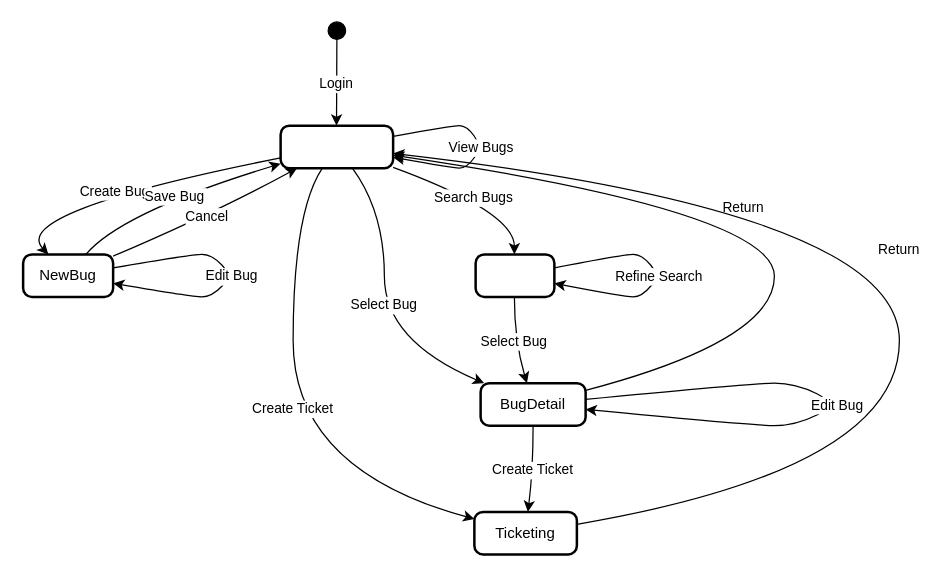
This 943x578 diagram has some shape labels left out. Here are the shapes that lost their labels. From the top down, the centre of each, then its label:
At pixel 336 146: "Dashboard".
At pixel 514 275: "Search".
